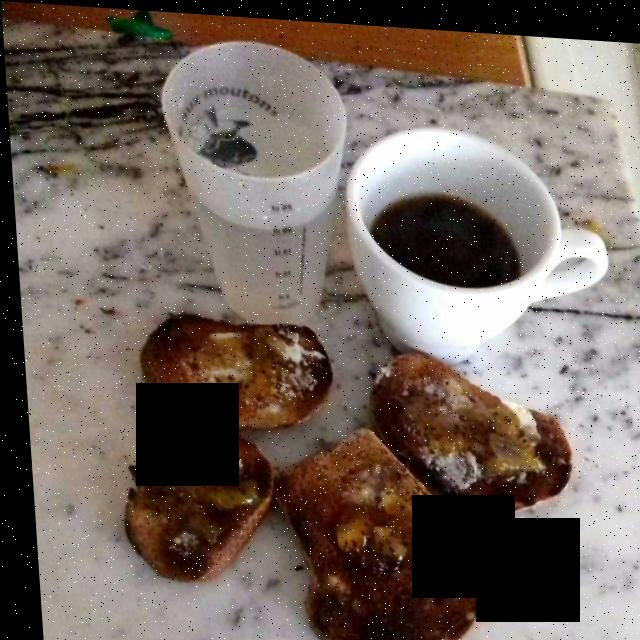bread-wholemeal: (114, 314, 574, 640)
butter: (146, 317, 532, 608)
coffee-with-caffeine: (375, 186, 512, 284)
water: (187, 112, 326, 321)
